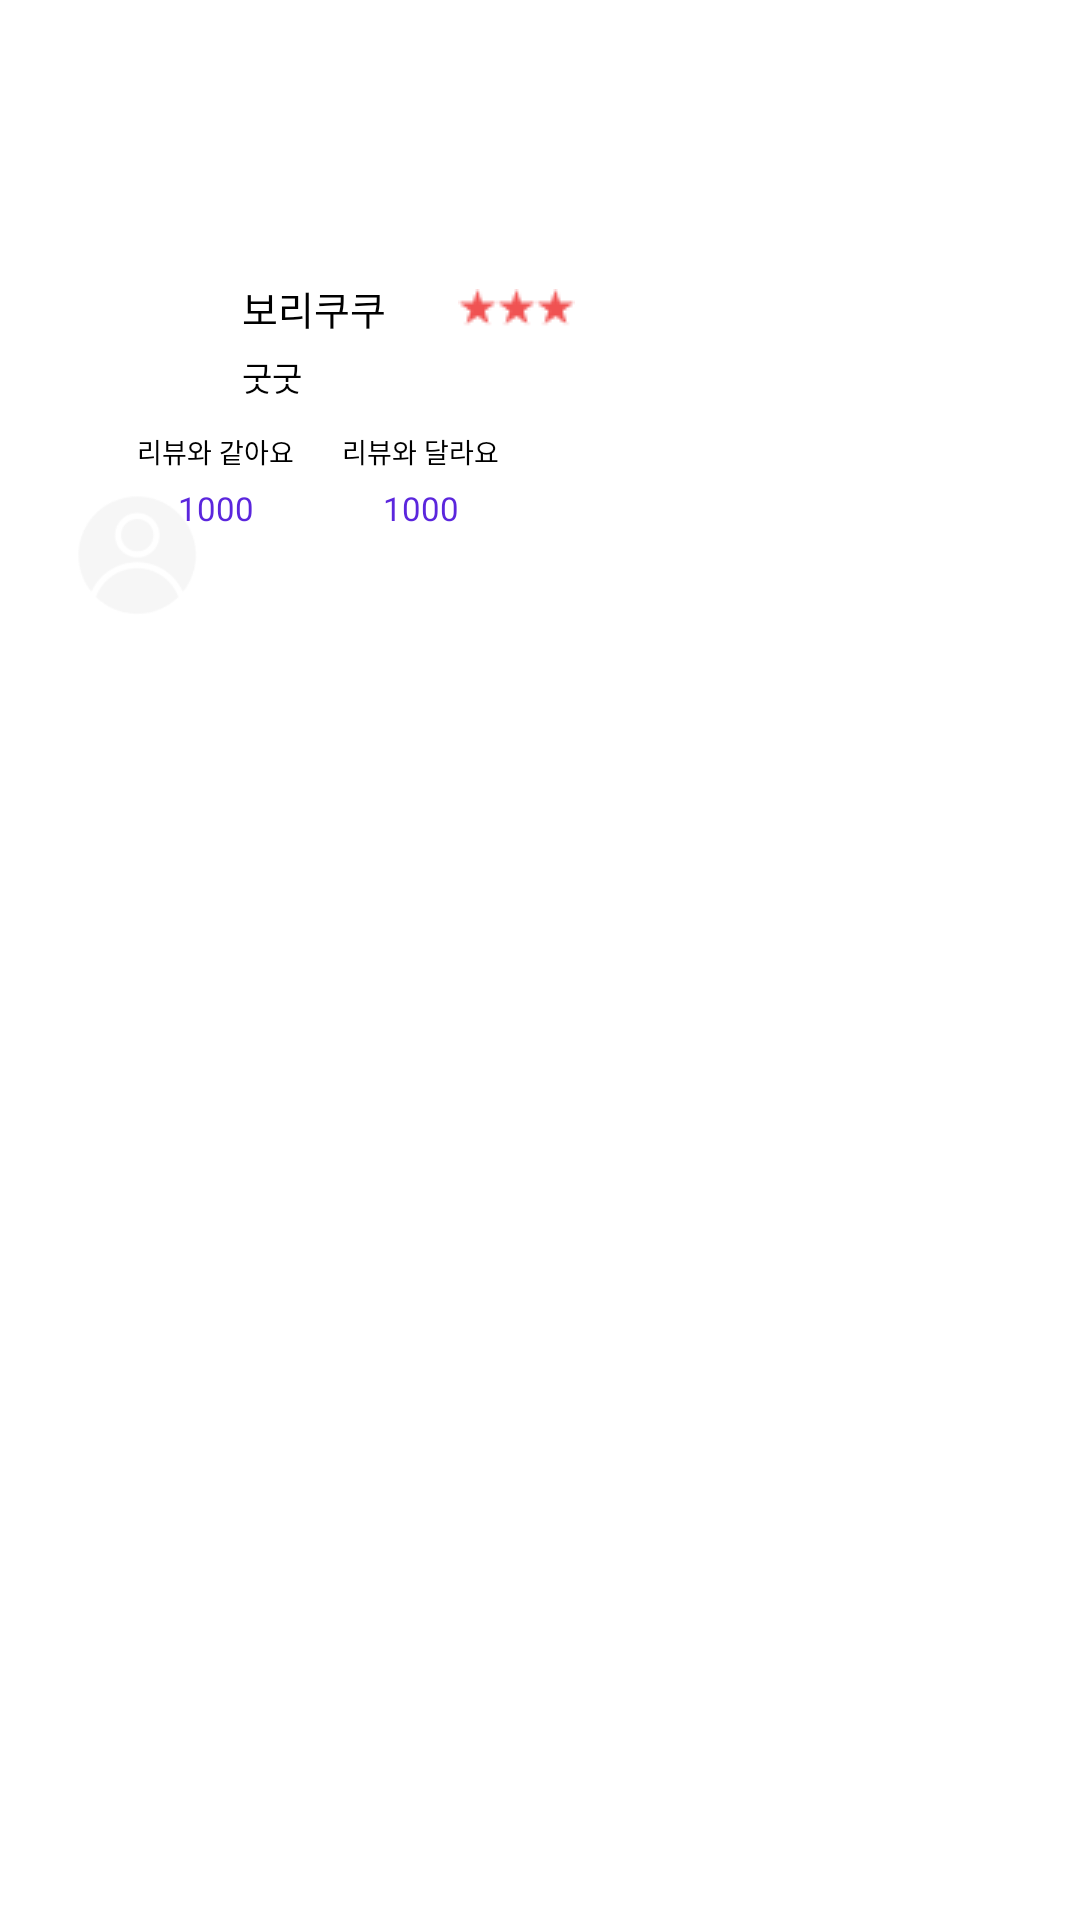

Icons on this 1080px×1920px Android screen, each with the point to tap as [x,y]:
star: [516,306]
